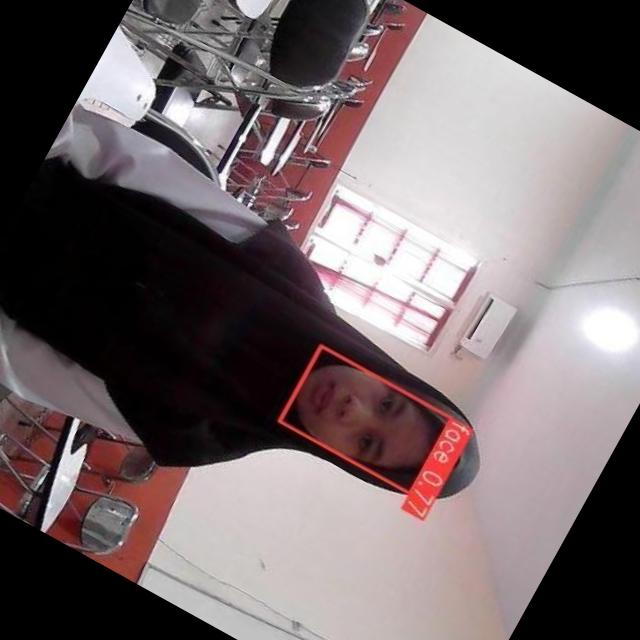bareface: (276, 325, 494, 530)
